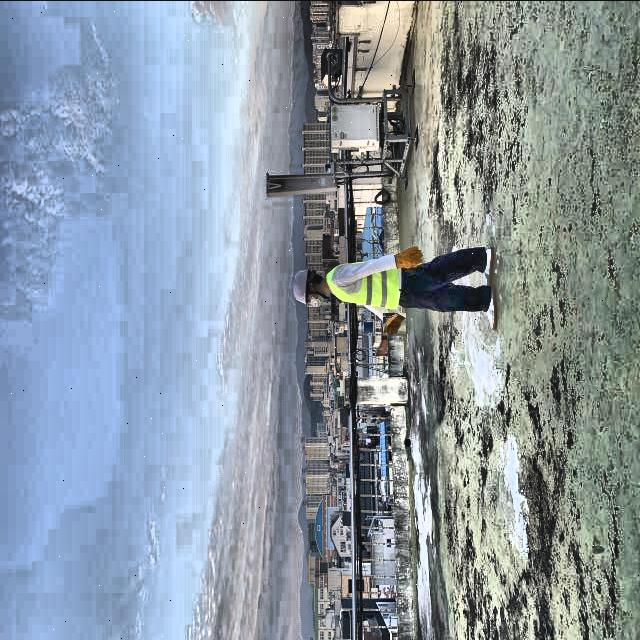gloved: (394, 245, 423, 268), (383, 312, 407, 336)
